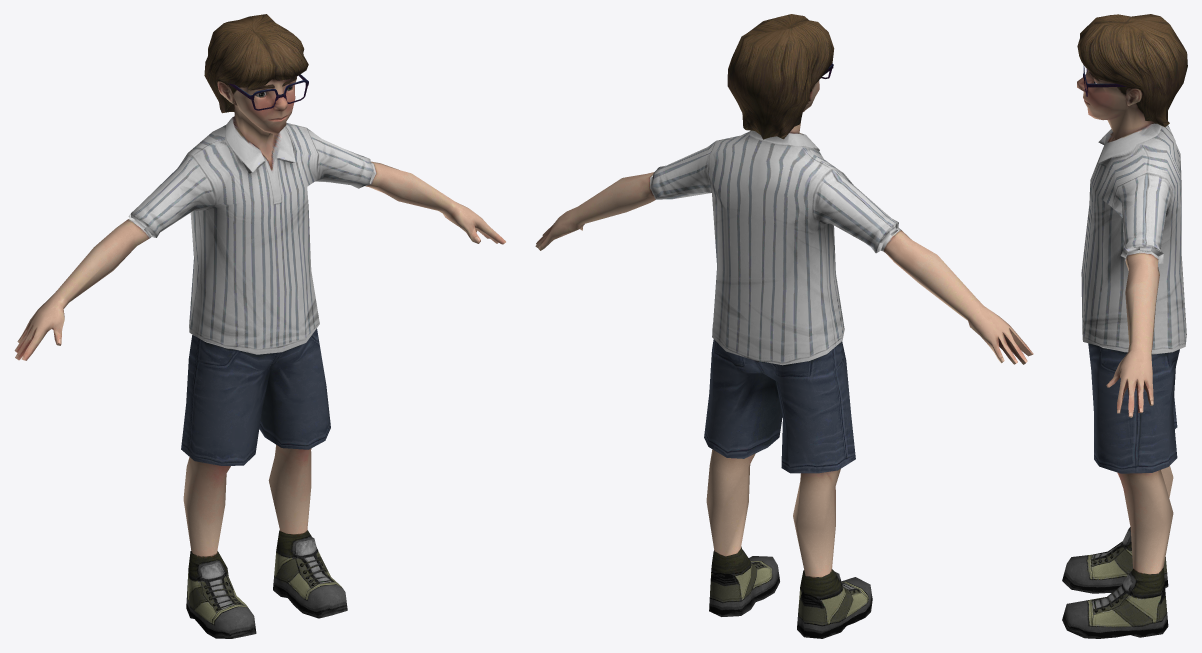
Rendered from KepleriansTeam_Mike.fbx.
The picture shows the model from 3 angles, left to right: view 1: azimuth 30°, elevation 25°; view 2: azimuth 150°, elevation 25°; view 3: azimuth 270°, elevation 25°; orthographic projection.
Parts seen in each view (by area): view 1: Mike_Mike; view 2: Mike_Mike; view 3: Mike_Mike.
Part boxes in pixels (bbox=[...]): Mike_Mike: bbox=[14, 14, 505, 638]; Mike_Mike: bbox=[535, 14, 1033, 638]; Mike_Mike: bbox=[1062, 14, 1187, 638].
Size of the model in its own units: 135 by 155 by 30.2.
